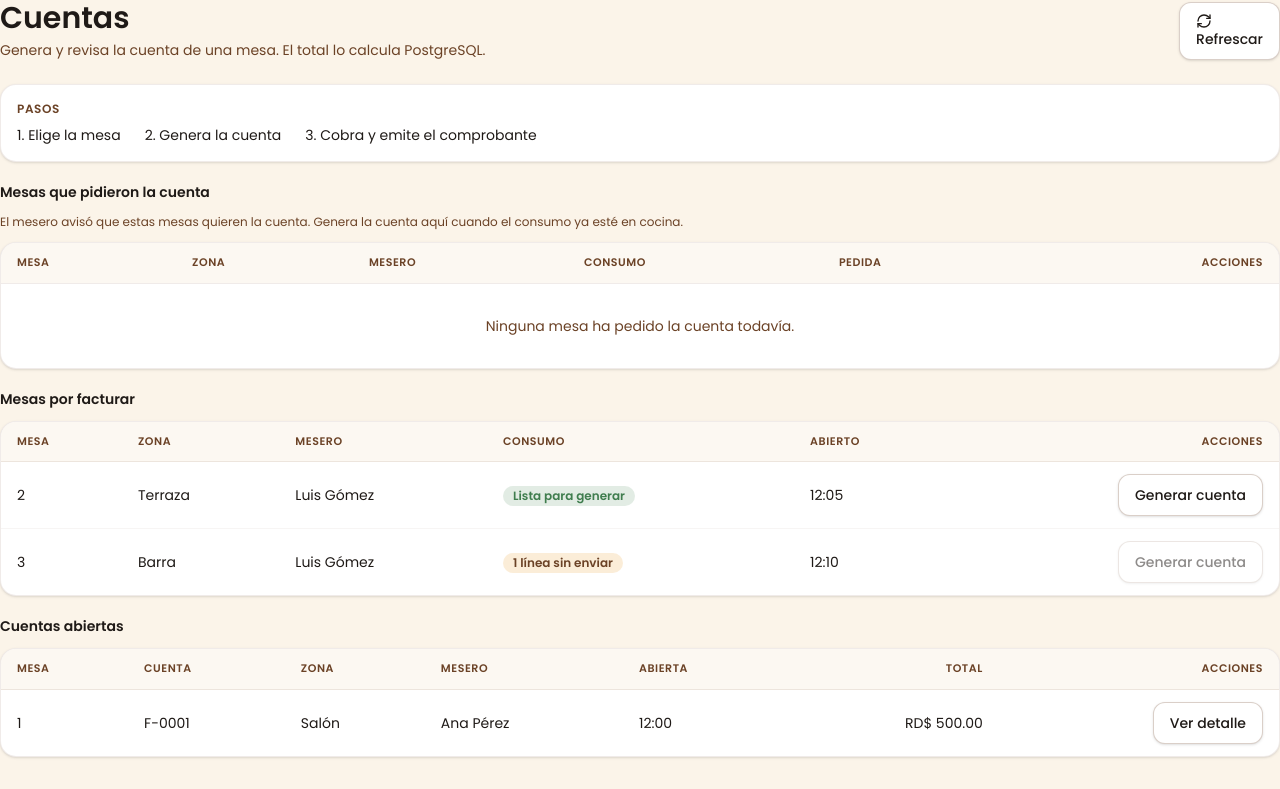
Test: Cuentas — generar › muestra el rechazo del servidor y no cambia la lista
The width and height of the screenshot is (1280, 789).
Click the button with aria-label "Generar la cuenta de la mesa 2". click: x=1190, y=495
box: [1118,474,1263,516]
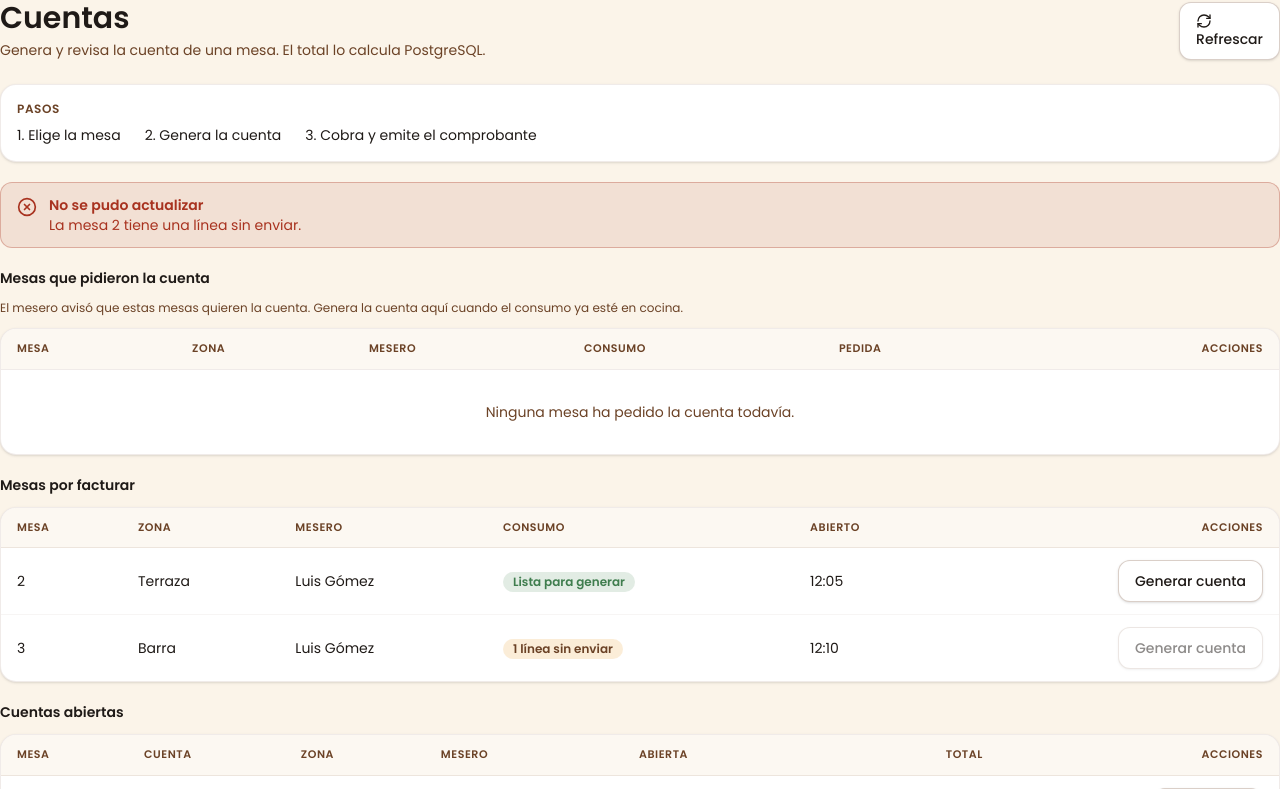
Expected: the text "La mesa 2 tiene una línea sin enviar." is shown, [49,215,301,235]
